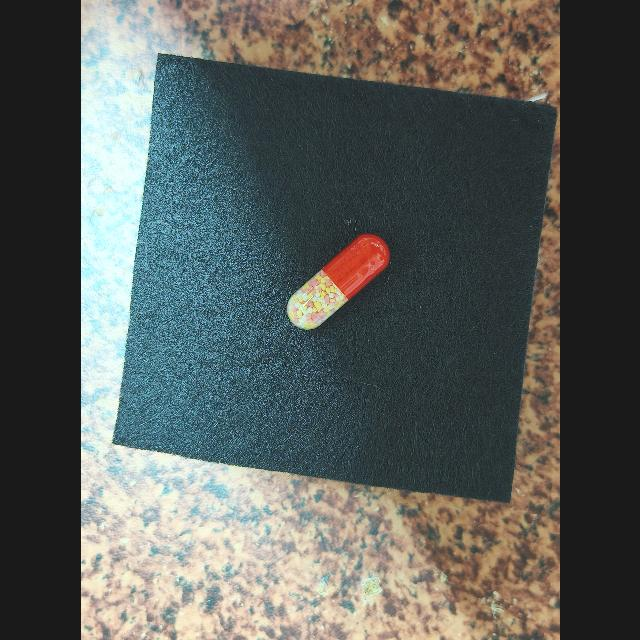Intact Capsule: (286, 234, 390, 330)
